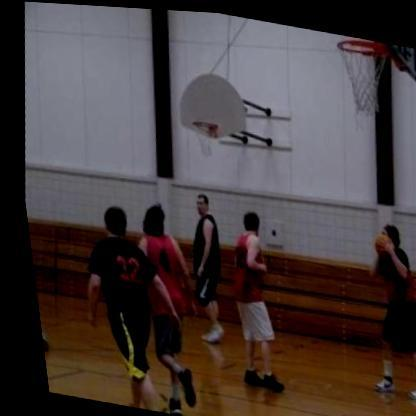basketball: (365, 225, 388, 252)
